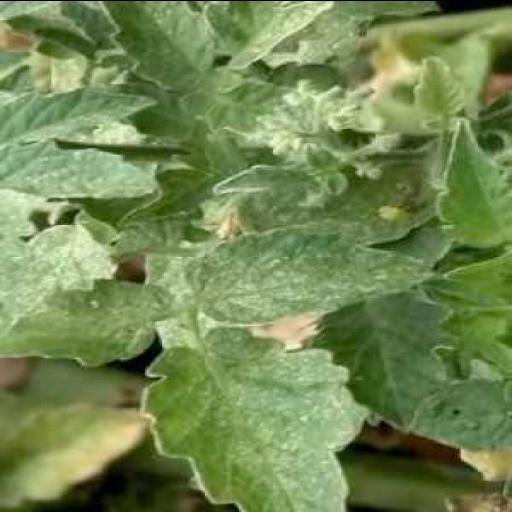disease_tomato: (144, 324, 370, 512), (184, 228, 442, 326)
